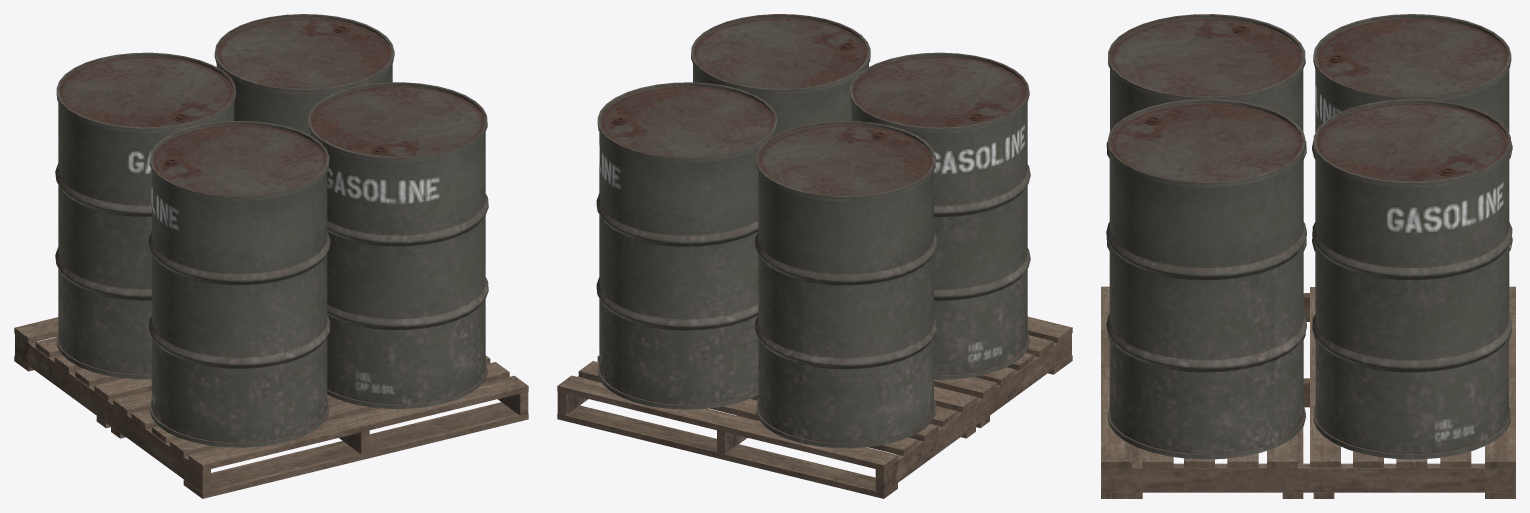
File: SM_Barrel_Stack_1.fbx
The picture shows the model from 3 angles, left to right: view 1: azimuth 30°, elevation 25°; view 2: azimuth 150°, elevation 25°; view 3: azimuth 270°, elevation 25°; orthographic projection. The views are drawn at different scales.
Parts seen in each view (by area): view 1: SM_Barrel_Stack_1_LOD0; view 2: SM_Barrel_Stack_1_LOD0; view 3: SM_Barrel_Stack_1_LOD0.
Boxes of the visible parts, left/top/right/bottom form: SM_Barrel_Stack_1_LOD0: left=14, top=14, right=528, bottom=498; SM_Barrel_Stack_1_LOD0: left=557, top=14, right=1072, bottom=498; SM_Barrel_Stack_1_LOD0: left=1101, top=14, right=1515, bottom=498.
Bounding box in the file's own units: 144 × 144 × 120.
Materials: 2 (2 with a texture image).
